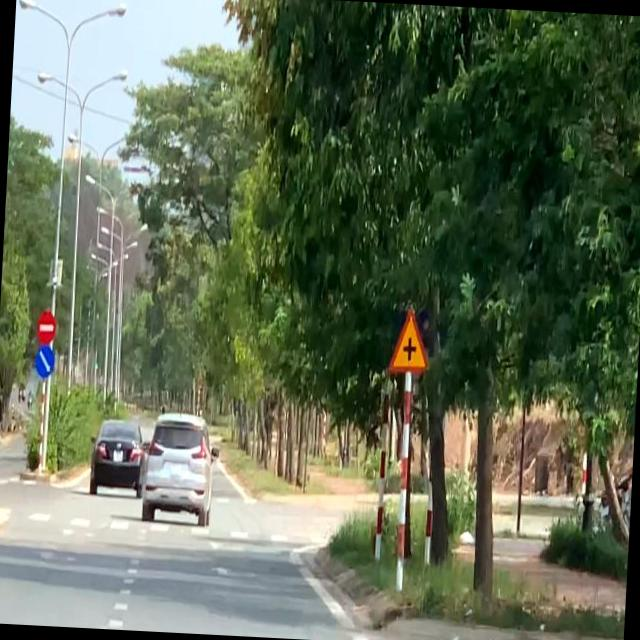P-102: (36, 308, 56, 346)
R-302a: (30, 344, 56, 379)
W-205a: (386, 305, 430, 372)
